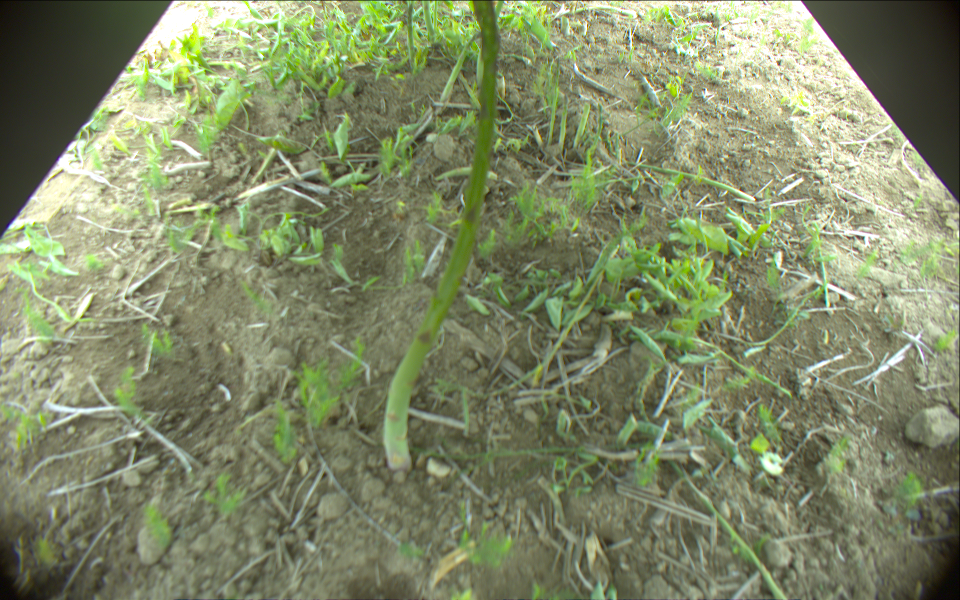aspa: (383, 1, 499, 472), (682, 474, 786, 600), (629, 163, 756, 201), (439, 29, 475, 104), (475, 1, 502, 85), (407, 5, 416, 64), (424, 1, 436, 37)
